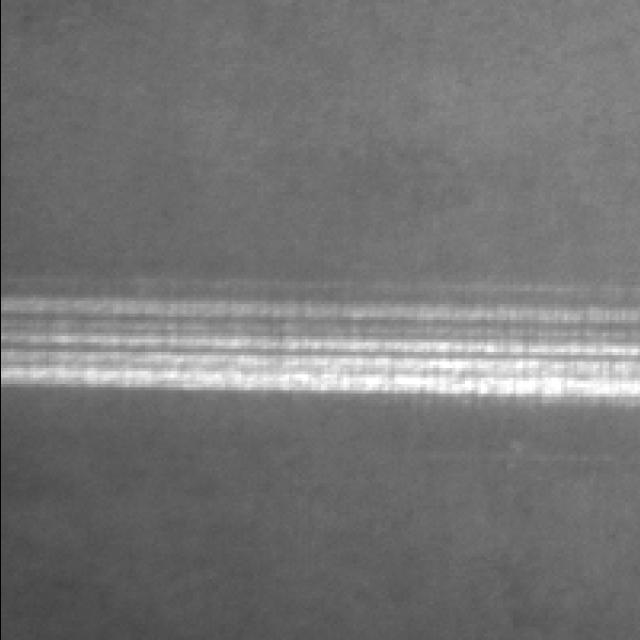scratches: (0, 286, 637, 386)
